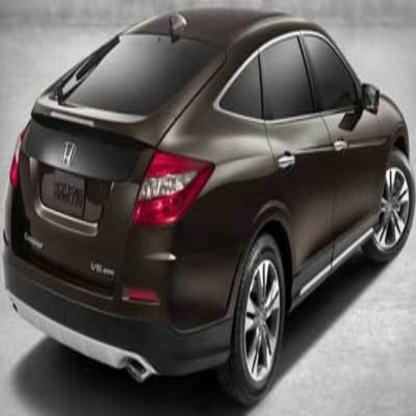Car: (2, 7, 416, 405)
